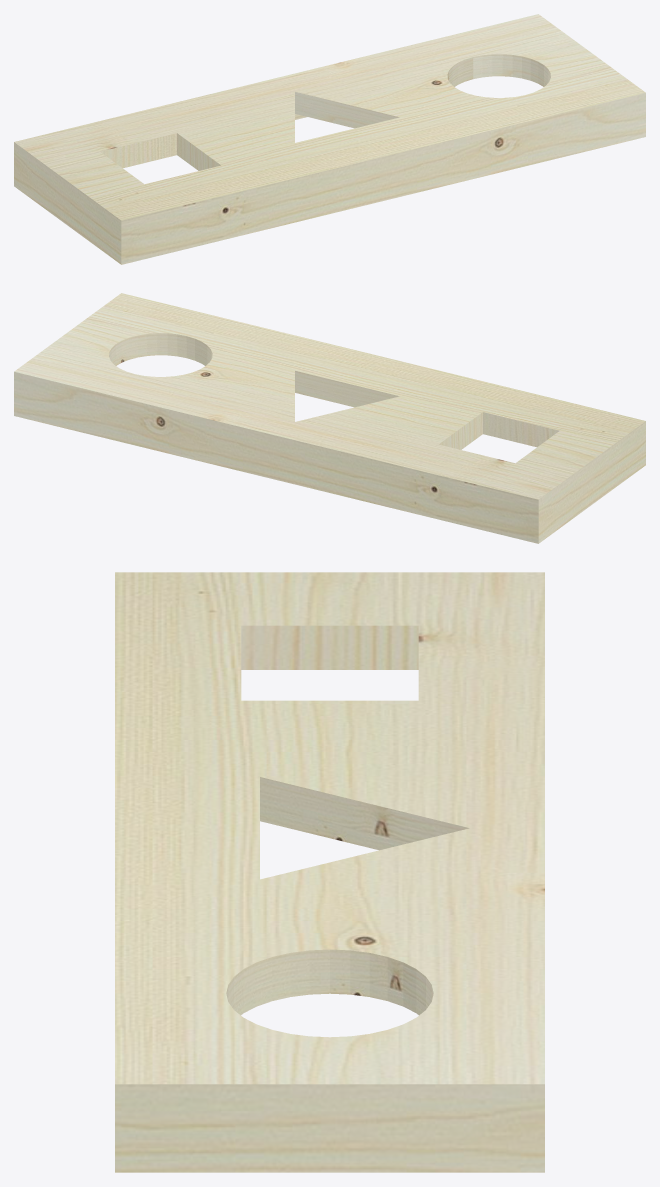
File: lid01.glb
The picture shows the model from 3 angles, top to bottom: view 1: azimuth 30°, elevation 25°; view 2: azimuth 150°, elevation 25°; view 3: azimuth 270°, elevation 25°; orthographic projection. The views are drawn at different scales.
Parts seen in each view (by area): view 1: Lid.009; view 2: Lid.009; view 3: Lid.009.
Boxes of the visible parts, bbox=[...] form: Lid.009: bbox=[14, 14, 645, 264]; Lid.009: bbox=[14, 293, 645, 543]; Lid.009: bbox=[115, 572, 544, 1172].
Size of the model in its own units: 6.2 by 0.5 by 2.2.
1 material, 1 textured.
